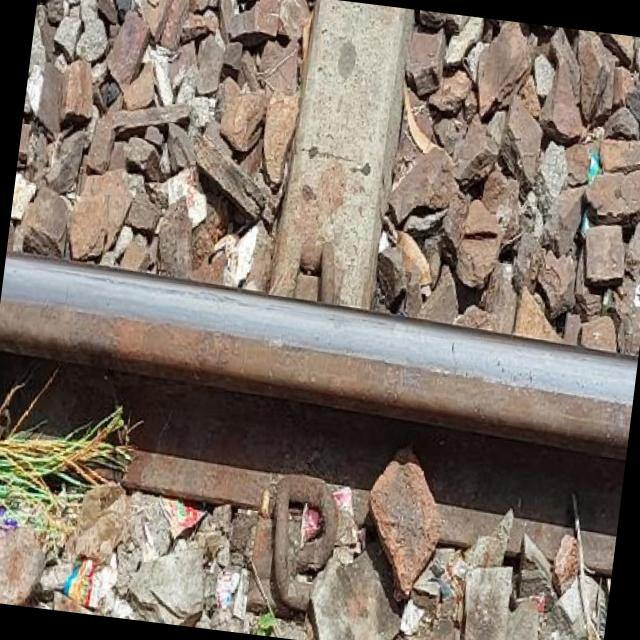non-defective: (0, 230, 640, 579)
